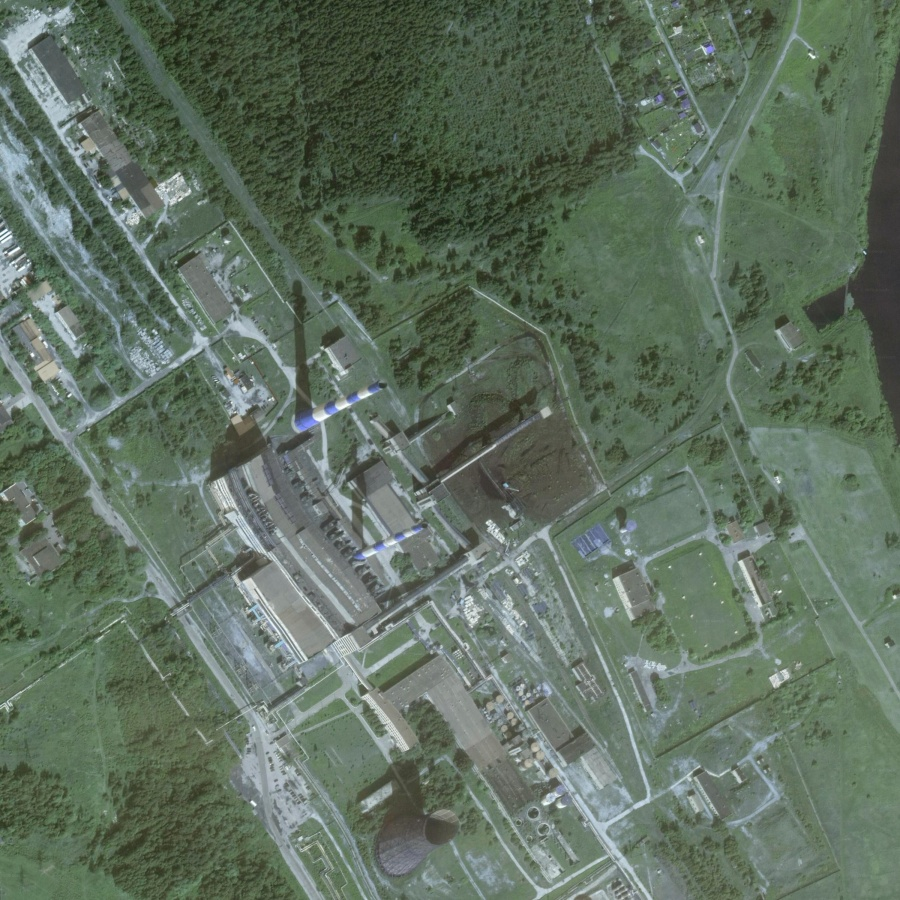PowerPlant: (261, 307, 567, 690), (350, 758, 479, 888)
